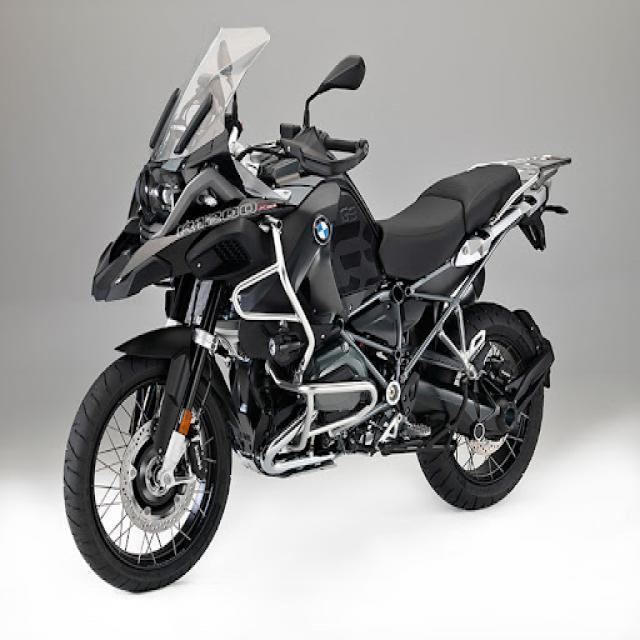Bike: (62, 27, 571, 595)
